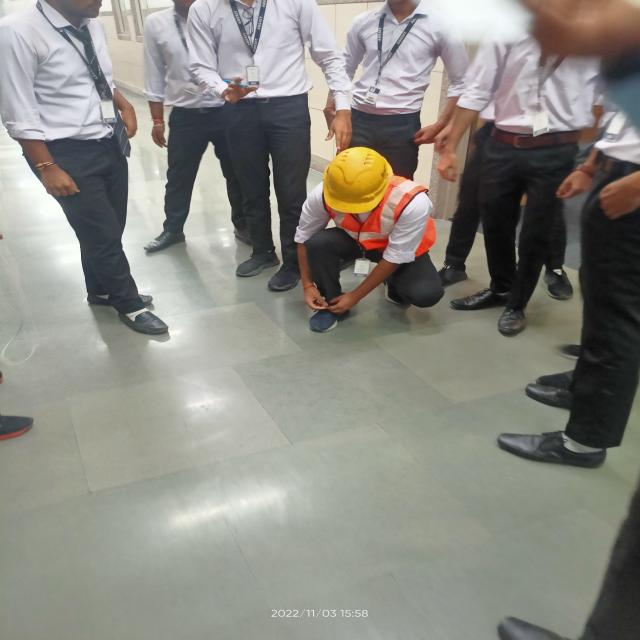no jacket: (188, 0, 310, 286), (479, 35, 588, 334), (334, 2, 467, 161)
safe: (296, 146, 446, 334)
unsafe: (1, 0, 157, 338), (137, 0, 210, 252)
